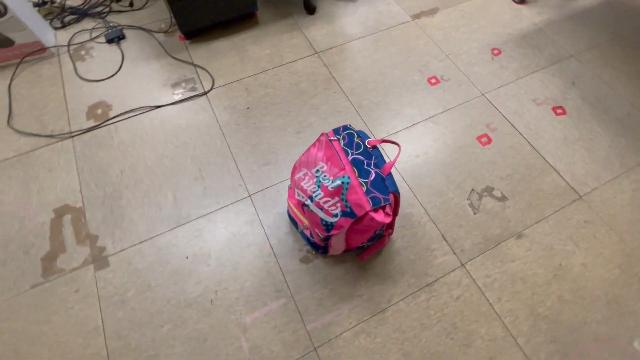Backpack: (283, 119, 405, 270)
